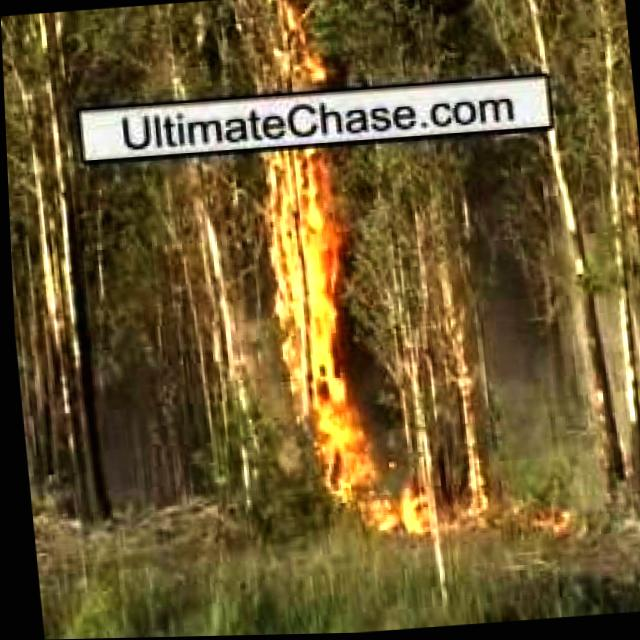Fire: (265, 154, 351, 429), (311, 436, 448, 557), (278, 2, 326, 93)
